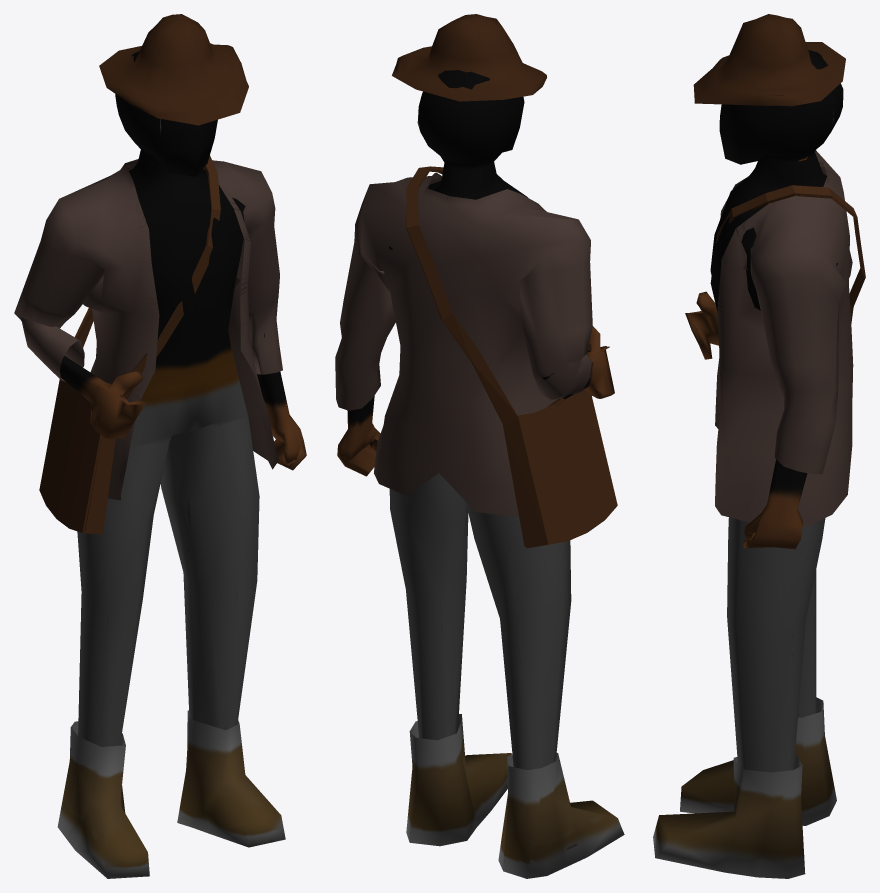
Rendered from rightyHo_7.obj.
3 views of the same model, side by side, from view 1: azimuth 30°, elevation 25°; view 2: azimuth 150°, elevation 25°; view 3: azimuth 270°, elevation 25° (orthographic). The views are drawn at different scales.
Parts seen in each view (by area): view 1: Default_Body_Cube, Jacket_Cube.004, Default_Body.001_Cube.001, Hat_Cube.005, MessengerBag_Circle; view 2: Jacket_Cube.004, Default_Body_Cube, Default_Body.001_Cube.001, MessengerBag_Circle, Hat_Cube.005; view 3: Jacket_Cube.004, Default_Body_Cube, Default_Body.001_Cube.001, Hat_Cube.005, MessengerBag_Circle.
Part boxes in pixels (x1=…): Default_Body_Cube: x1=60, y1=51, x2=306, y2=833; Jacket_Cube.004: x1=14, y1=159, x2=282, y2=500; Default_Body.001_Cube.001: x1=57, y1=710, x2=285, y2=878; Hat_Cube.005: x1=99, y1=14, x2=248, y2=125; MessengerBag_Circle: x1=39, y1=155, x2=220, y2=534; Jacket_Cube.004: x1=335, y1=172, x2=592, y2=516; Default_Body_Cube: x1=337, y1=70, x2=614, y2=849; Default_Body.001_Cube.001: x1=406, y1=714, x2=624, y2=878; MessengerBag_Circle: x1=406, y1=166, x2=617, y2=548; Hat_Cube.005: x1=392, y1=14, x2=546, y2=101; Jacket_Cube.004: x1=715, y1=150, x2=853, y2=526; Default_Body_Cube: x1=685, y1=50, x2=843, y2=772; Default_Body.001_Cube.001: x1=653, y1=697, x2=836, y2=878; Hat_Cube.005: x1=693, y1=14, x2=845, y2=106; MessengerBag_Circle: x1=716, y1=185, x2=865, y2=323.
Bounding box in the file's own units: 1.89 × 5.74 × 1.33.
